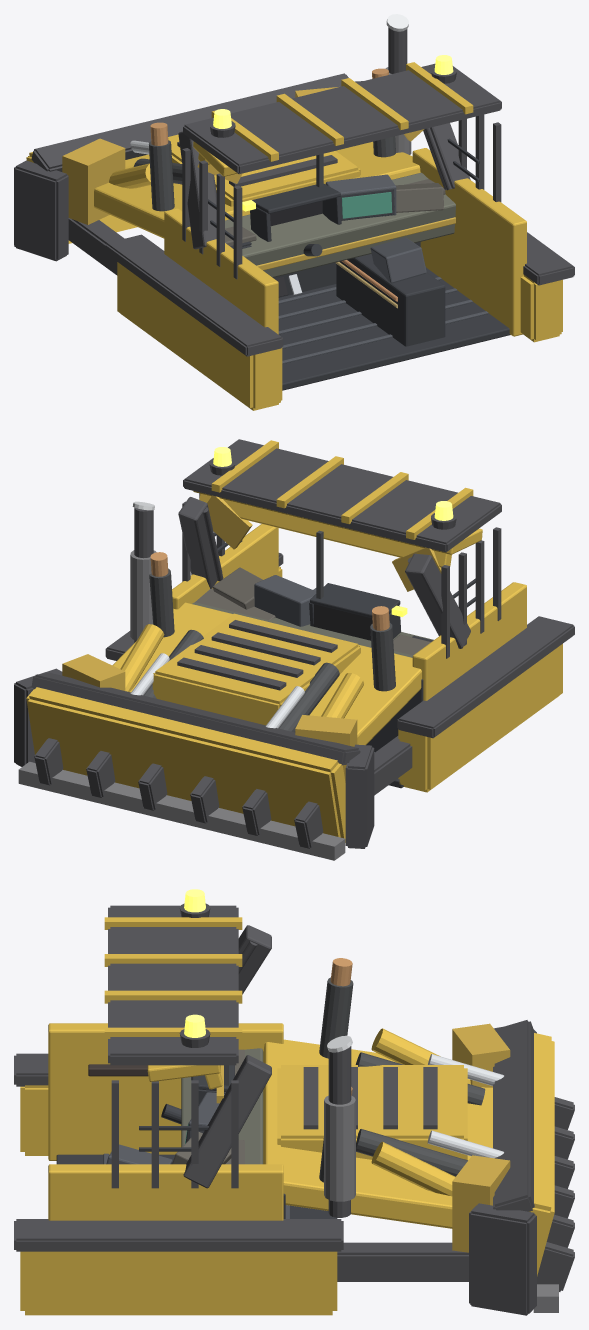
File: cockpit_bulldozer.glb
The picture shows the model from 3 angles, top to bottom: view 1: azimuth 30°, elevation 25°; view 2: azimuth 150°, elevation 25°; view 3: azimuth 270°, elevation 25°; orthographic projection. The views are drawn at different scales.
Parts seen in each view (by area): view 1: DZ_RoofCageFrame, FloorPan, RightDoorArmor, DZ_SideSkirt_L, DashMainDeck, DZ_TrackGuard_L, TransmissionTunnel, LeftDoorArmor, DZ_BladeWing_L, ExteriorHood, DZ_BladeTopLip, DozerBladeWingL (+31 smaller); view 2: DZ_BladeCenter, DZ_RoofCageFrame, DZ_HoodBlock, DZ_SideSkirt_L, DZ_TrackGuard_L, DZ_BladeCutEdge, ExteriorHood, DZ_BladeTopLip, LeftDoorArmor, VisorArmorPlate, RightDoorArmor, DZ_BladeWing_L (+45 smaller); view 3: DZ_SideSkirt_R, DZ_RoofCageFrame, LeftDoorArmor, RightDoorArmor, ExteriorHood, DZ_TrackGuard_R, DZ_HoodBlock, DZ_BladeWing_R, DZ_BladeTopLip, DZ_PushArm_R, DZ_BladeCenter, PillarRight (+39 smaller).
Part boxes in pixels (x1,y1,x2,y2): DZ_RoofCageFrame: [183, 63, 501, 174]; FloorPan: [278, 267, 510, 390]; RightDoorArmor: [412, 148, 526, 336]; DZ_SideSkirt_L: [117, 262, 282, 410]; DashMainDeck: [225, 172, 455, 277]; DZ_TrackGuard_L: [105, 234, 283, 356]; TransmissionTunnel: [336, 254, 445, 346]; LeftDoorArmor: [164, 208, 278, 334]; DZ_BladeWing_L: [14, 160, 68, 261]; ExteriorHood: [94, 141, 420, 238]; DZ_BladeTopLip: [31, 73, 348, 171]; DozerBladeWingL: [62, 138, 125, 224]; DZ_BladeCenter: [26, 687, 345, 842]; DZ_RoofCageFrame: [183, 439, 501, 552]; DZ_HoodBlock: [152, 613, 360, 725]; DZ_SideSkirt_L: [398, 644, 562, 792]; DZ_TrackGuard_L: [397, 616, 574, 738]; DZ_BladeCutEdge: [18, 761, 345, 860]; ExteriorHood: [112, 602, 421, 745]; DZ_BladeTopLip: [31, 672, 360, 765]; LeftDoorArmor: [412, 582, 526, 700]; VisorArmorPlate: [199, 493, 451, 567]; RightDoorArmor: [172, 524, 278, 609]; DZ_BladeWing_L: [345, 744, 374, 848]; DZ_SideSkirt_R: [20, 1251, 337, 1315]; DZ_RoofCageFrame: [108, 905, 238, 1065]; LeftDoorArmor: [48, 1023, 283, 1160]; RightDoorArmor: [48, 1164, 283, 1220]; ExteriorHood: [263, 1039, 492, 1228]; DZ_TrackGuard_R: [14, 1219, 343, 1251]; DZ_HoodBlock: [277, 1065, 467, 1159]; DZ_BladeWing_R: [469, 1203, 536, 1315]; DZ_BladeTopLip: [493, 1020, 534, 1211]; DZ_PushArm_R: [337, 1242, 468, 1281]; DZ_BladeCenter: [529, 1033, 554, 1276]; PillarRight: [183, 1055, 271, 1188].
Bounding box in the file's own units: 2.61 × 1.67 × 3.1.
